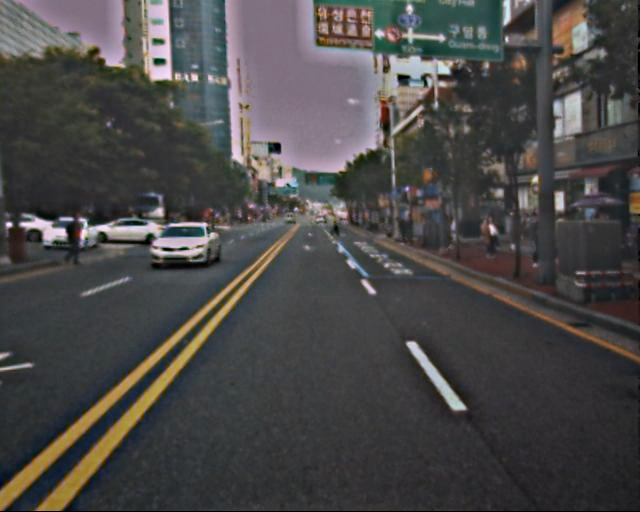person: (525, 214, 547, 267), (65, 216, 84, 263), (482, 214, 500, 259), (395, 223, 417, 248), (331, 216, 342, 244)
